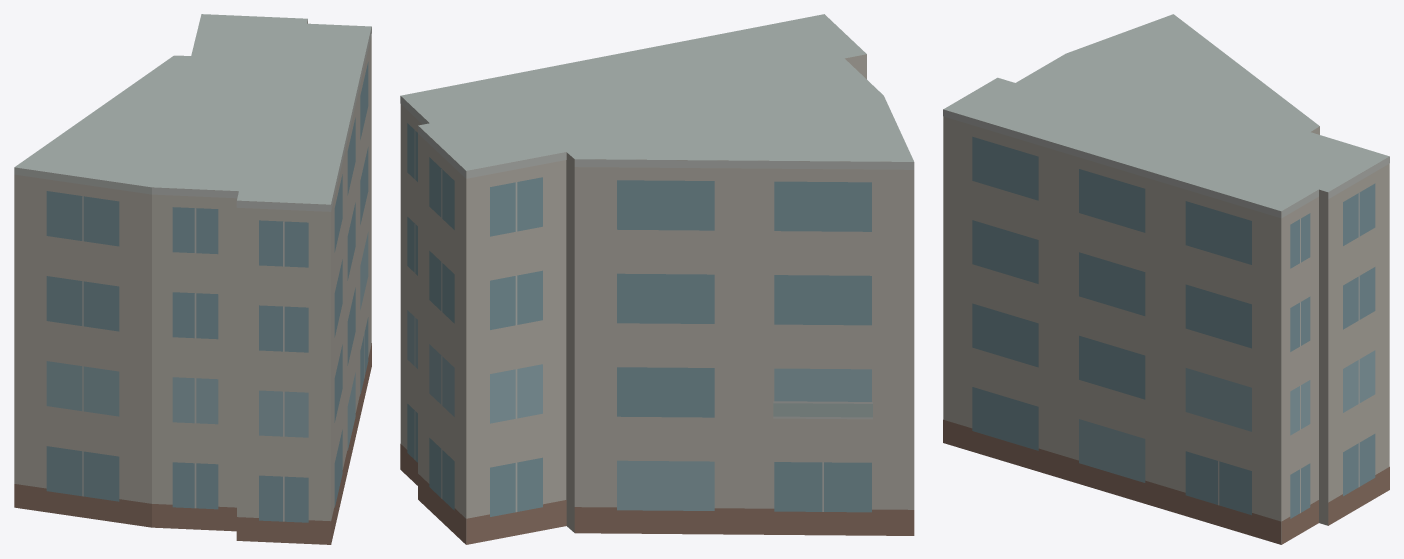
The model's file is survey-upis-32714894.glb.
3 views of the same model, side by side, from view 1: azimuth 30°, elevation 25°; view 2: azimuth 150°, elevation 25°; view 3: azimuth 270°, elevation 25° (orthographic). The views are drawn at different scales.
Parts seen in each view (by area): view 1: survey-upis-32714894.tmp; view 2: survey-upis-32714894.tmp; view 3: survey-upis-32714894.tmp.
Part boxes in pixels (x1,y1,x2,y2): survey-upis-32714894.tmp: (14,14,371,544); survey-upis-32714894.tmp: (400,14,914,544); survey-upis-32714894.tmp: (943,14,1389,544).
Size of the model in its own units: 14.6 by 11.5 by 13.96.
